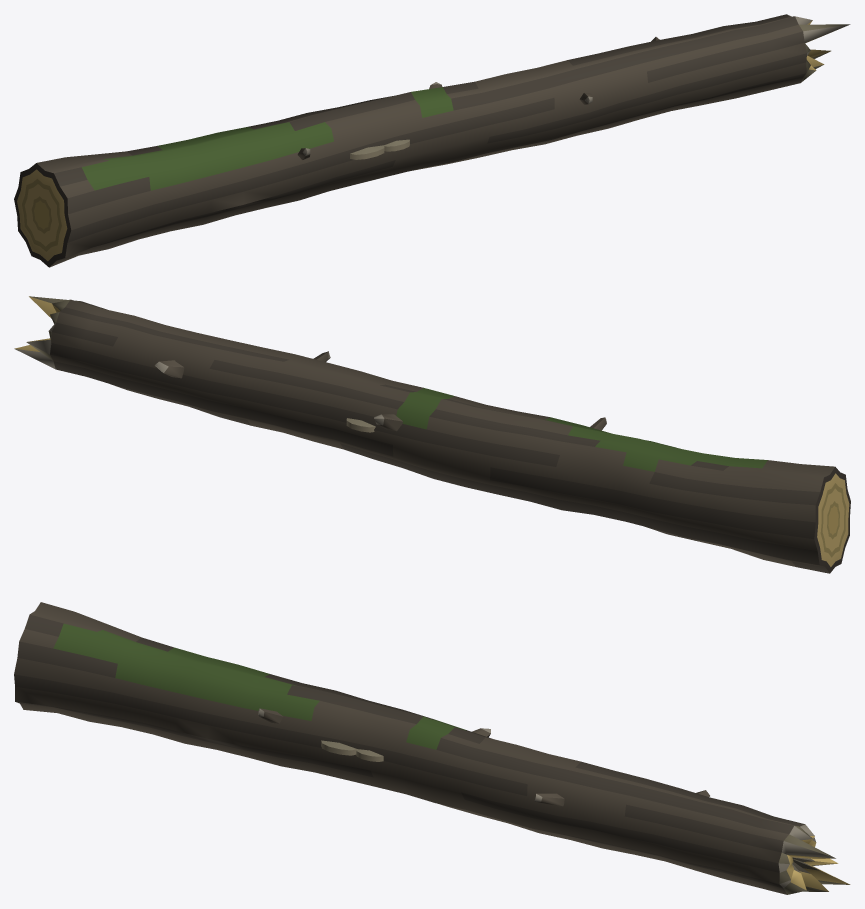
The model's file is fallen_log_6.glb.
3 views of the same model, one above another, from view 1: azimuth 30°, elevation 25°; view 2: azimuth 150°, elevation 25°; view 3: azimuth 330°, elevation 25° (orthographic). The views are drawn at different scales.
Visible parts, largest first — view 1: FallenLog6; view 2: FallenLog6; view 3: FallenLog6.
Part boxes in pixels (x1=…): FallenLog6: x1=14, y1=14, x2=850, y2=267; FallenLog6: x1=14, y1=296, x2=850, y2=573; FallenLog6: x1=14, y1=602, x2=850, y2=894.
Size of the model in its own units: 6 by 0.68 by 0.72.
